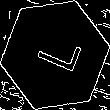L_W: (28, 31, 82, 79)
